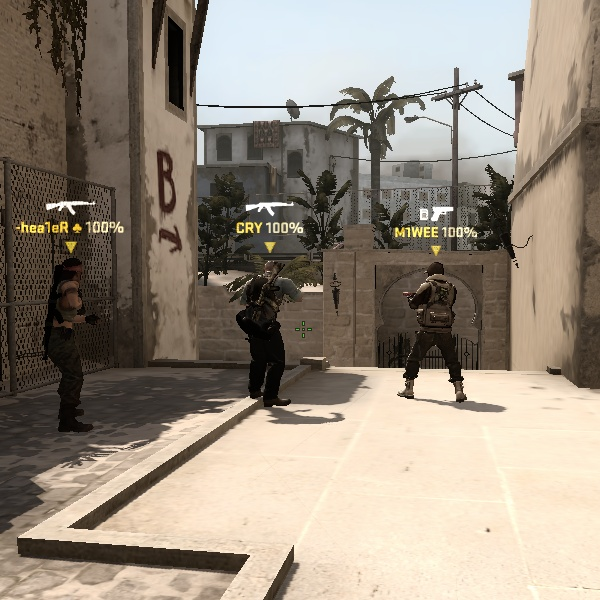t_body: (37, 254, 125, 436), (231, 255, 312, 409), (394, 257, 474, 405)
t_head: (53, 253, 93, 291), (258, 254, 290, 286), (421, 257, 451, 289)
